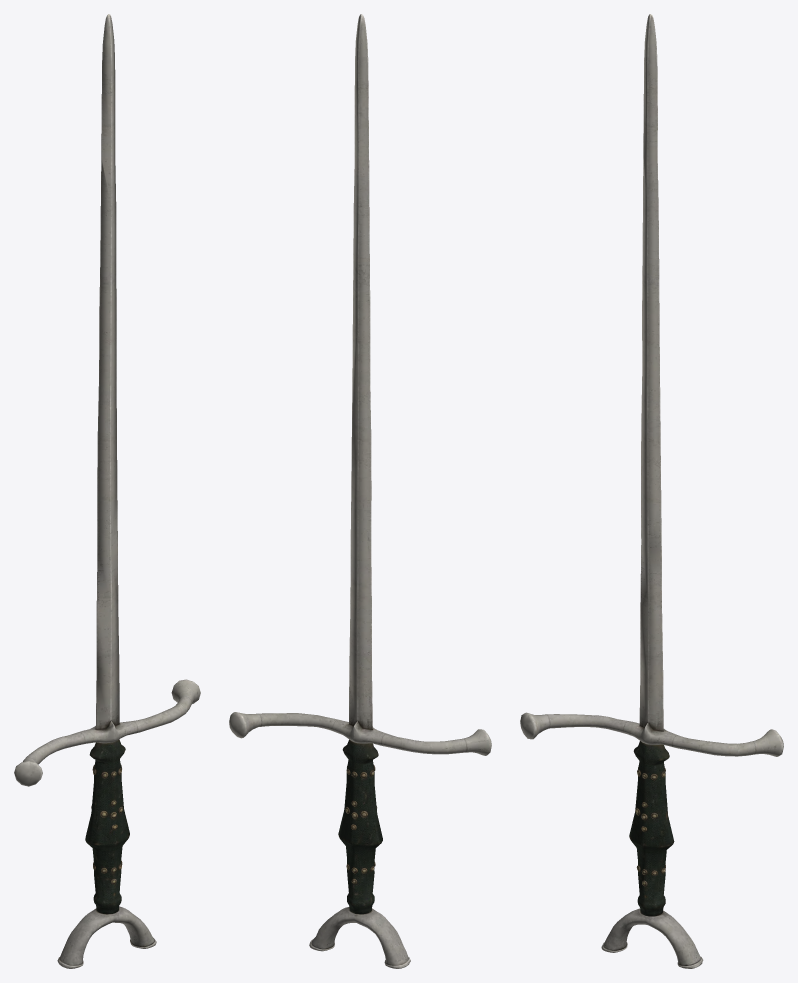
The model's file is antique_estoc.glb.
The picture shows the model from 3 angles, left to right: view 1: azimuth 30°, elevation 25°; view 2: azimuth 150°, elevation 25°; view 3: azimuth 330°, elevation 25°; orthographic projection.
Visible parts, largest first — view 1: antique_estoc; view 2: antique_estoc; view 3: antique_estoc.
Part boxes in pixels (x1,y1,x2,y2): antique_estoc: [14, 14, 200, 968]; antique_estoc: [229, 14, 491, 968]; antique_estoc: [520, 14, 783, 968].
Size of the model in its own units: 0.3715 by 1.49 by 0.149.
1 material, 1 textured.
